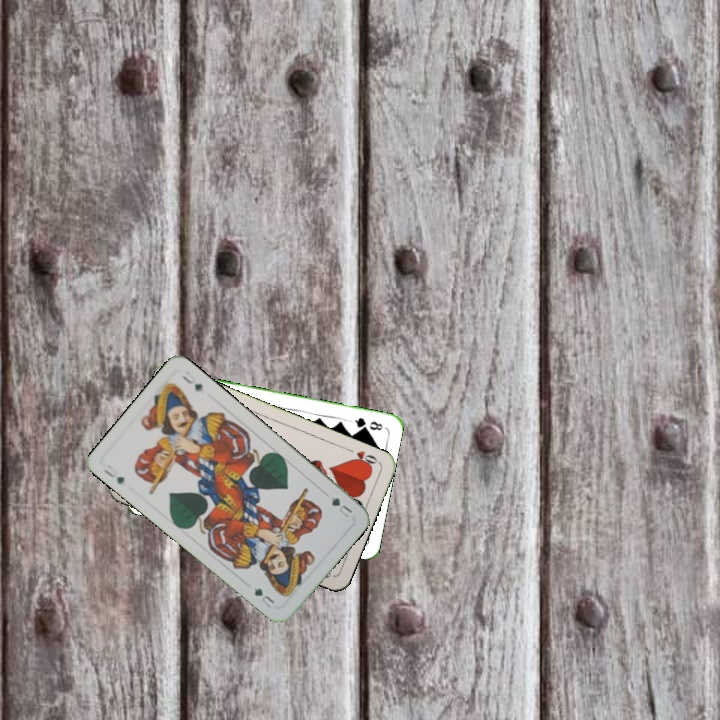G8: (347, 414, 385, 433)
GU: (326, 493, 355, 520), (99, 461, 127, 487)
HO: (343, 444, 381, 470)
